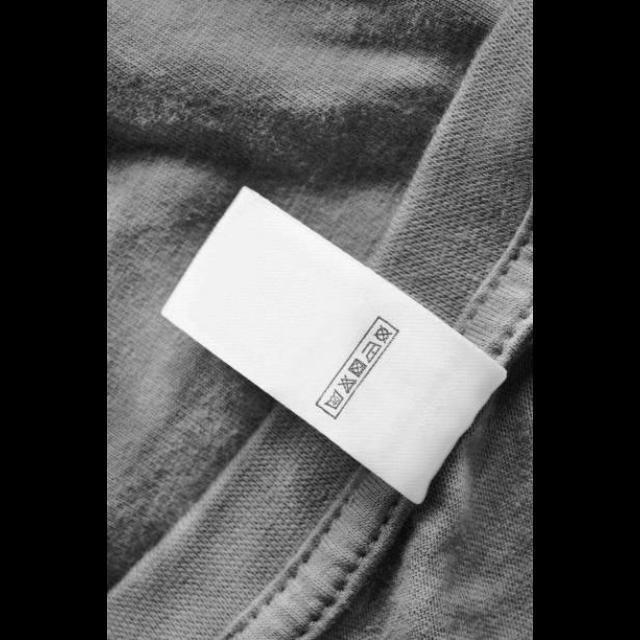40C: (322, 387, 346, 411)
DN_bleach: (336, 373, 358, 395)
DN_dry_clean: (372, 324, 394, 344)
DN_tumble_dry: (347, 356, 368, 378)
iron_low: (360, 340, 384, 364)
